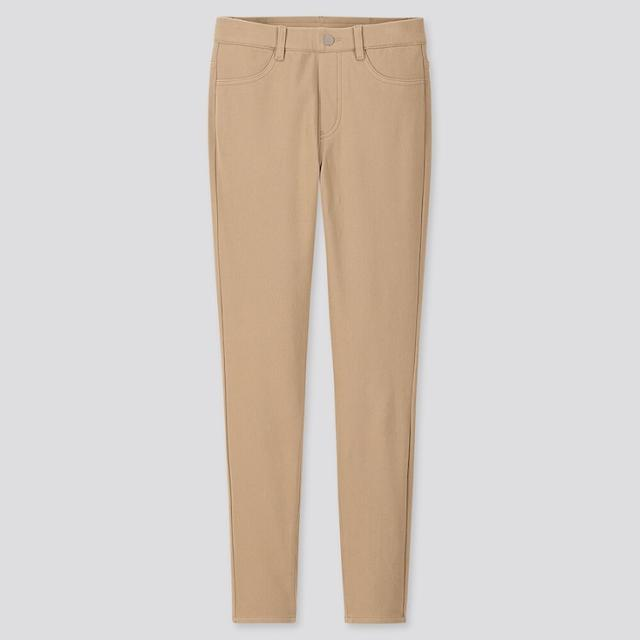long-pants: (208, 17, 432, 629)
